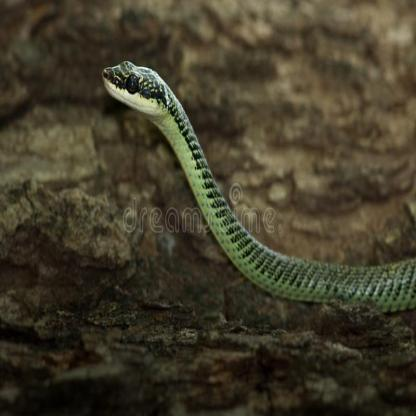Snake: (100, 58, 414, 306)
